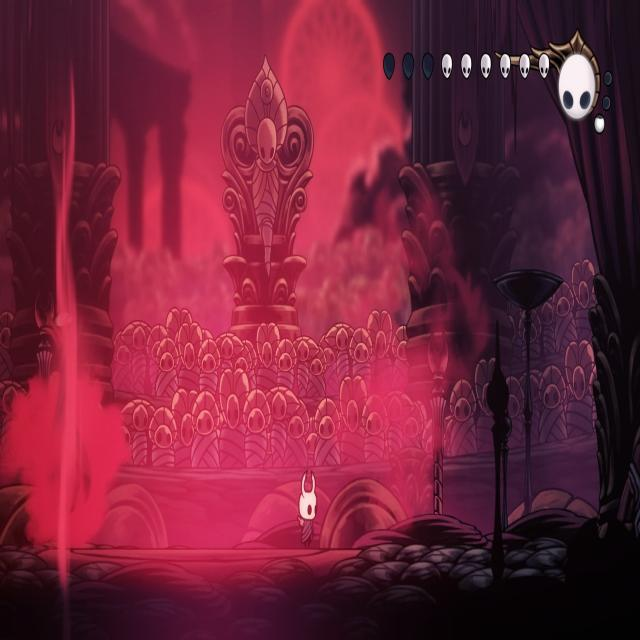Player: (296, 464, 321, 548)
